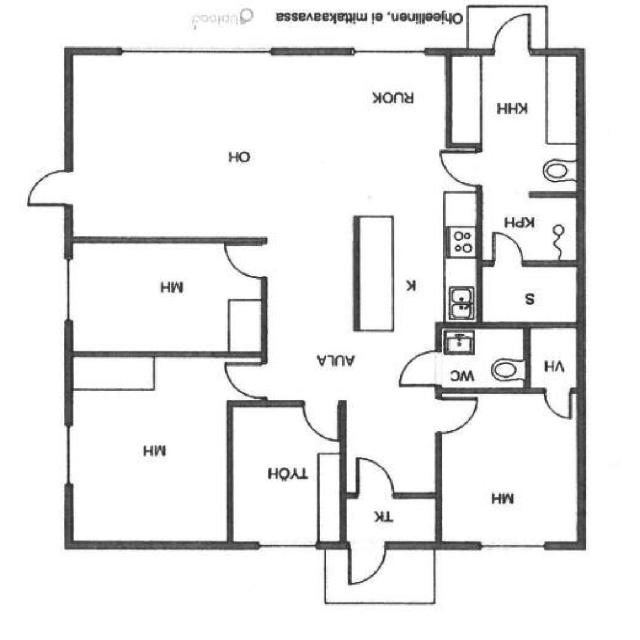door: (16, 160, 83, 212), (486, 9, 539, 58), (434, 142, 484, 192), (350, 452, 400, 502), (217, 357, 271, 400), (345, 538, 388, 592), (220, 238, 270, 283), (432, 392, 482, 436), (396, 349, 448, 387), (302, 404, 342, 444), (486, 229, 527, 268), (540, 389, 574, 422)
window: (116, 42, 270, 62), (342, 43, 432, 62), (472, 537, 553, 555), (58, 257, 78, 326), (248, 536, 321, 554), (57, 422, 76, 490)
zone: (70, 47, 450, 241), (65, 356, 238, 546), (269, 241, 477, 398), (66, 238, 262, 355), (438, 388, 583, 545), (450, 52, 582, 195), (228, 403, 342, 546), (477, 194, 581, 264), (478, 262, 580, 322), (437, 326, 528, 392), (343, 499, 442, 543), (526, 326, 581, 387)
